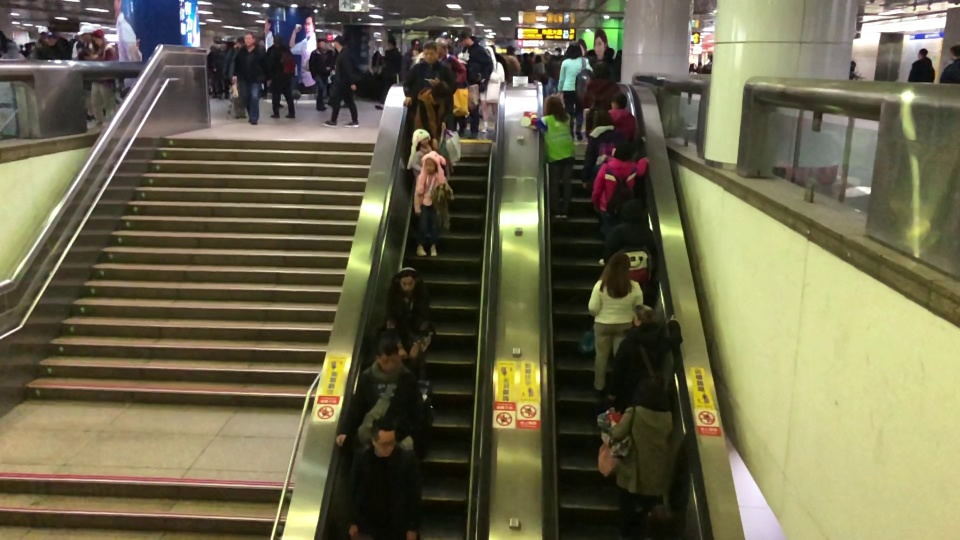person_head: (645, 502, 677, 540), (632, 375, 666, 410), (370, 418, 397, 459), (374, 337, 399, 373), (602, 252, 631, 283), (619, 197, 646, 224), (633, 303, 656, 328), (396, 267, 417, 294), (543, 93, 563, 117), (429, 80, 449, 104), (591, 60, 613, 81), (422, 151, 441, 175), (612, 139, 631, 162), (422, 40, 438, 65), (591, 109, 612, 128), (410, 129, 430, 147), (610, 92, 628, 109), (434, 37, 448, 58), (565, 44, 582, 59), (92, 29, 106, 47), (459, 30, 473, 47), (583, 48, 597, 64), (241, 30, 255, 46), (948, 43, 960, 60), (483, 45, 494, 62), (332, 36, 344, 51), (915, 47, 928, 59), (316, 38, 327, 52), (602, 47, 614, 59), (272, 33, 283, 46), (47, 33, 57, 46), (504, 45, 515, 56), (410, 39, 421, 50), (386, 38, 396, 50), (234, 37, 244, 48), (81, 33, 91, 43), (553, 46, 562, 56), (849, 60, 857, 71), (540, 73, 548, 84), (543, 51, 551, 61), (615, 49, 622, 60), (219, 41, 227, 50), (209, 44, 217, 53), (529, 51, 536, 61), (0, 30, 5, 44), (521, 53, 529, 61), (373, 50, 380, 59), (258, 40, 265, 49), (534, 55, 541, 63), (30, 41, 36, 48), (696, 62, 702, 67), (708, 55, 712, 62), (689, 63, 694, 68), (19, 44, 23, 48)
person_vbox: (607, 375, 683, 540), (334, 337, 428, 458), (348, 418, 422, 540), (606, 303, 683, 414), (587, 252, 643, 399), (590, 139, 649, 265), (522, 93, 576, 219), (603, 197, 658, 307), (383, 266, 435, 382), (581, 109, 646, 190), (402, 40, 456, 130), (457, 30, 494, 140), (412, 151, 447, 258), (322, 36, 360, 129), (557, 43, 593, 141), (258, 33, 297, 120), (83, 28, 116, 125), (233, 30, 264, 126), (412, 80, 448, 150), (479, 45, 505, 134), (374, 37, 402, 111), (582, 61, 621, 109), (309, 38, 331, 111), (434, 37, 466, 86), (606, 92, 636, 139), (407, 129, 433, 179), (906, 47, 936, 83), (211, 41, 227, 101), (939, 43, 960, 85), (227, 37, 245, 83), (400, 39, 420, 80), (0, 29, 23, 60), (502, 45, 521, 82), (490, 45, 508, 83), (42, 33, 67, 59), (207, 44, 218, 99), (550, 46, 565, 82), (600, 48, 616, 81), (72, 33, 91, 60), (258, 39, 266, 101), (686, 63, 695, 105), (540, 73, 557, 95), (848, 60, 864, 80), (519, 53, 532, 75), (532, 55, 545, 77), (614, 48, 622, 83), (371, 50, 382, 72), (701, 55, 712, 75), (27, 41, 37, 60), (695, 62, 703, 73), (18, 44, 23, 55)
